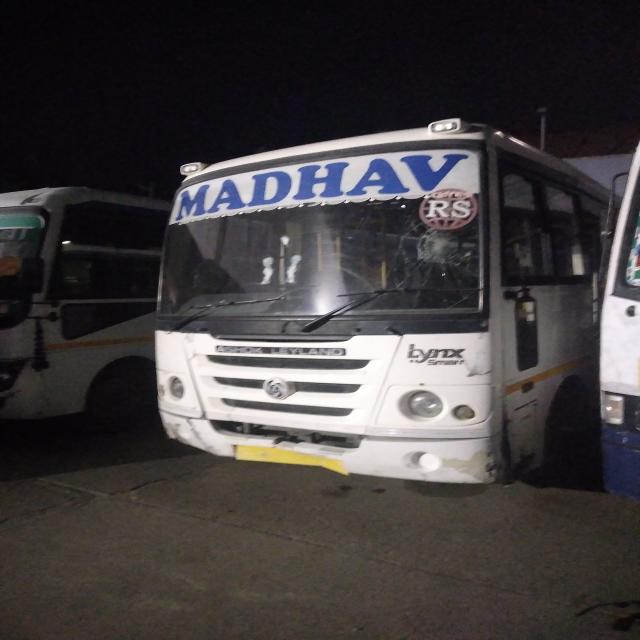Bus: (0, 119, 640, 496)
